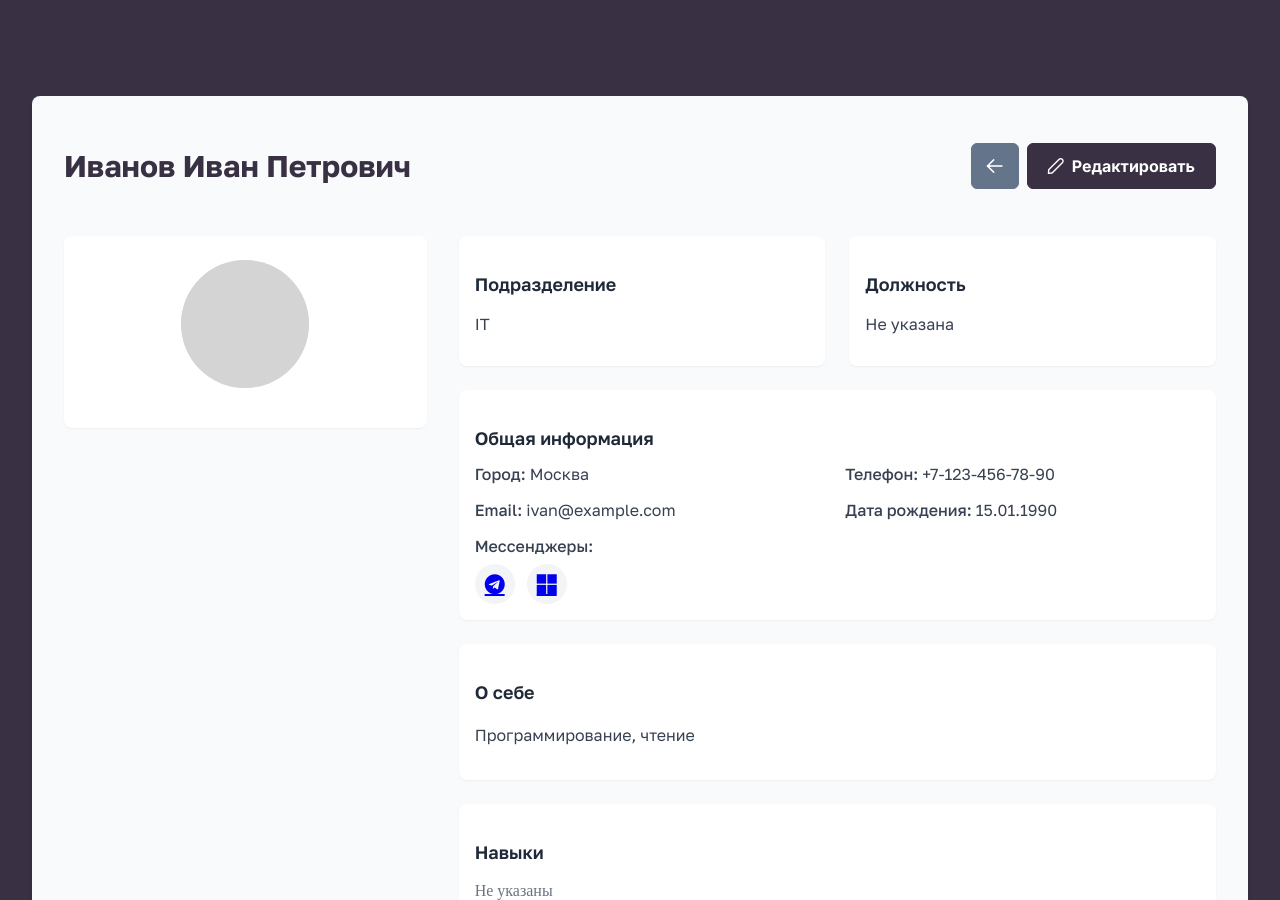
Test case: ProfilePage - Manager card feature › Client-side validation and toasts › shows warning toast when required fields are missing
Expected: the heading "Иванов Иван Петрович" is shown, [64,148,411,184]
Click the button "Редактировать" at (1121, 166), box [1027,143,1216,189]
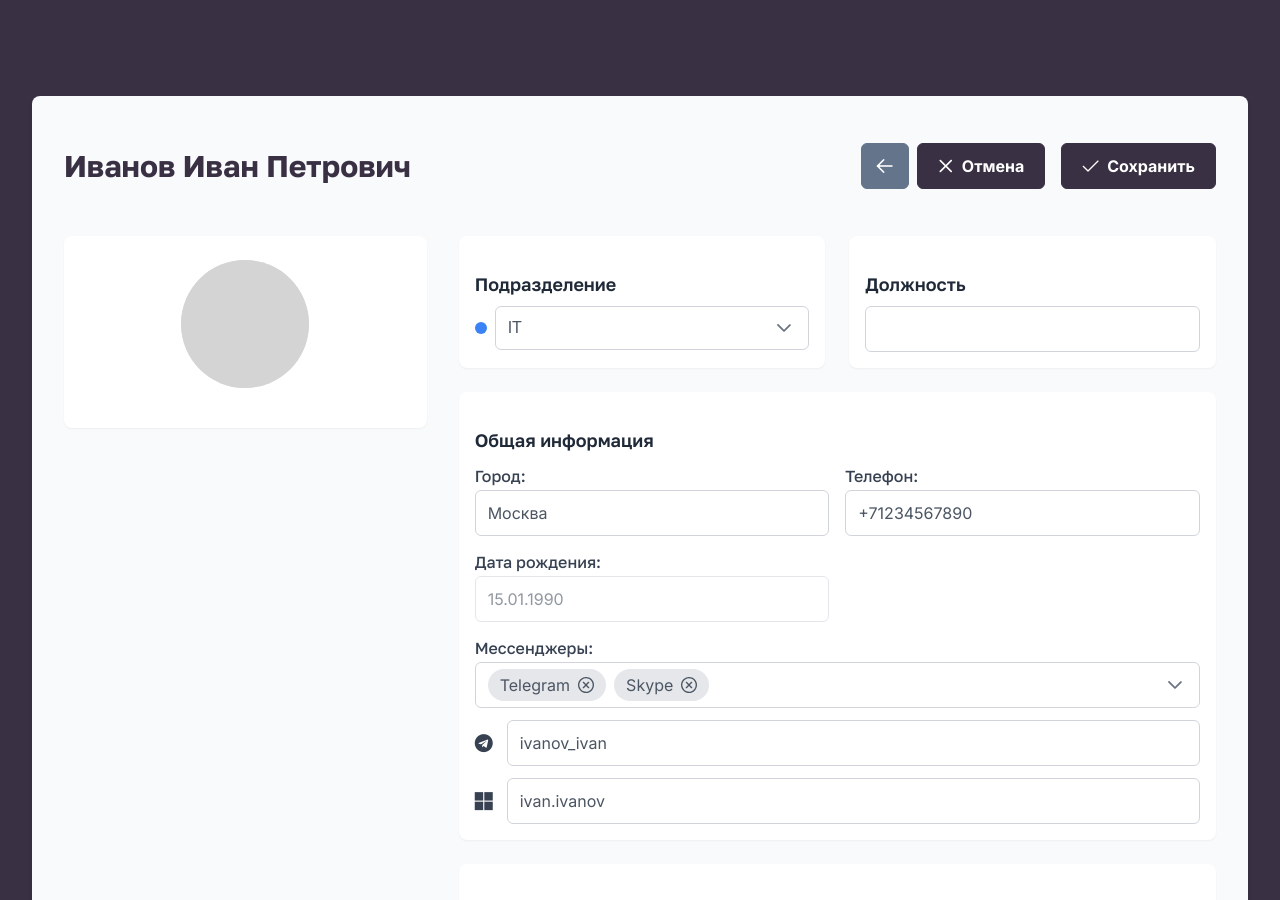
Note: Поскольку позиция пустая, ensure Save catches it
Click the button "Сохранить" at (1139, 166), box [1061,143,1216,189]
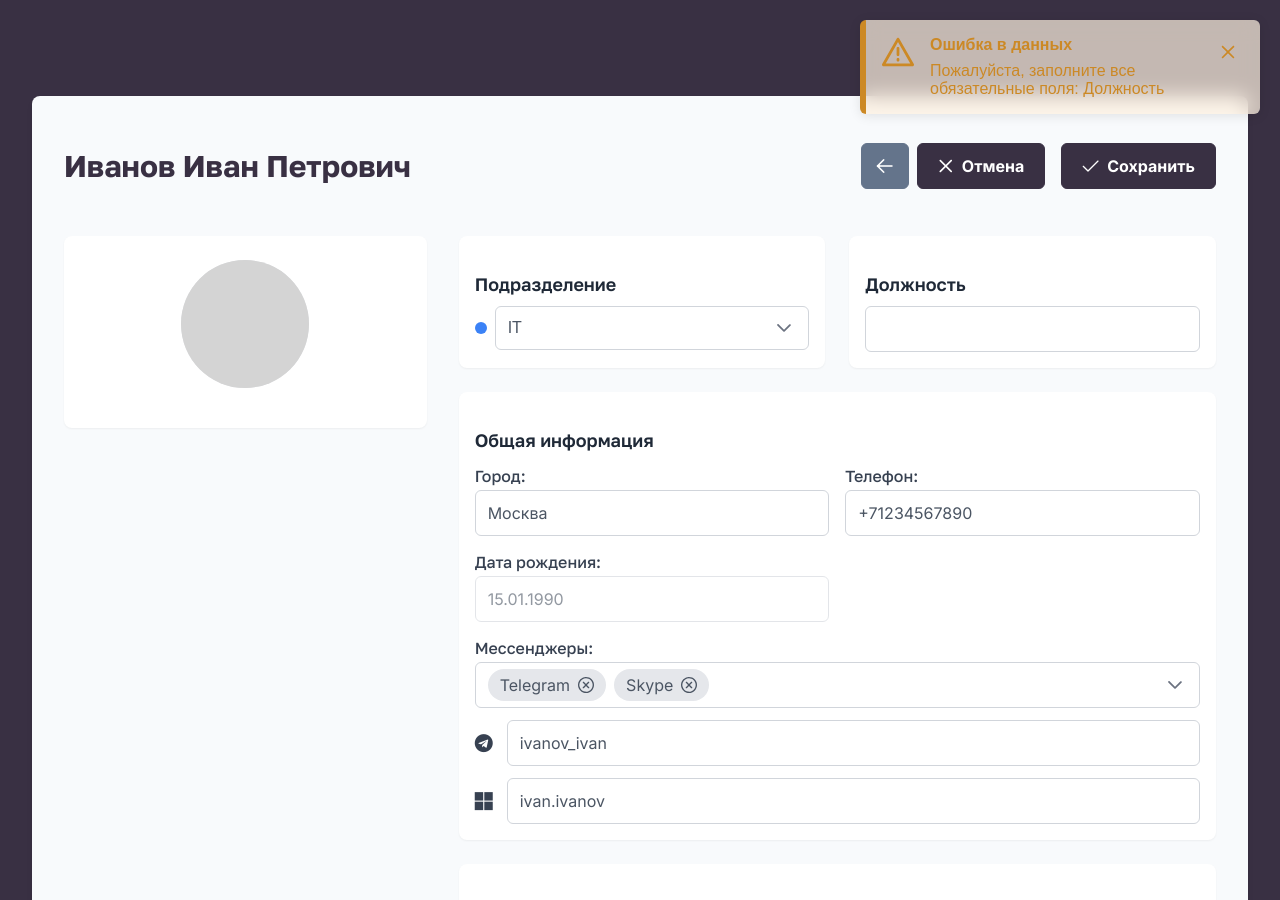
Now the text "Пожалуйста, заполните все обязательные поля: Должность" is shown, box [930,62,1164,97]
